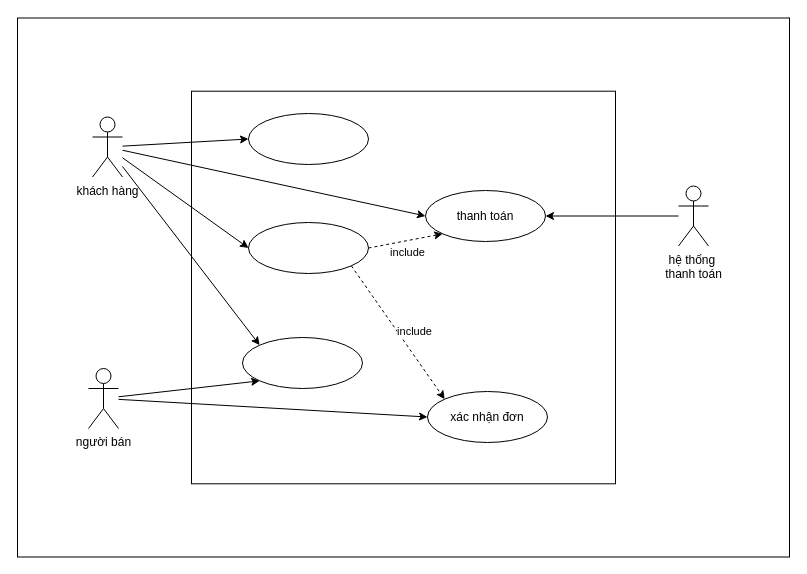
The diagram is 807 pixels wide and 574 high, and some of its shapes have lost their labels. The centre of each missing label's shape, as x and y in pixels:
"tìm kiếm sản phẩm" belongs at (x=308, y=138).
"đăng nhập" belongs at (x=302, y=362).
"đặt hàng" belongs at (x=308, y=248).
